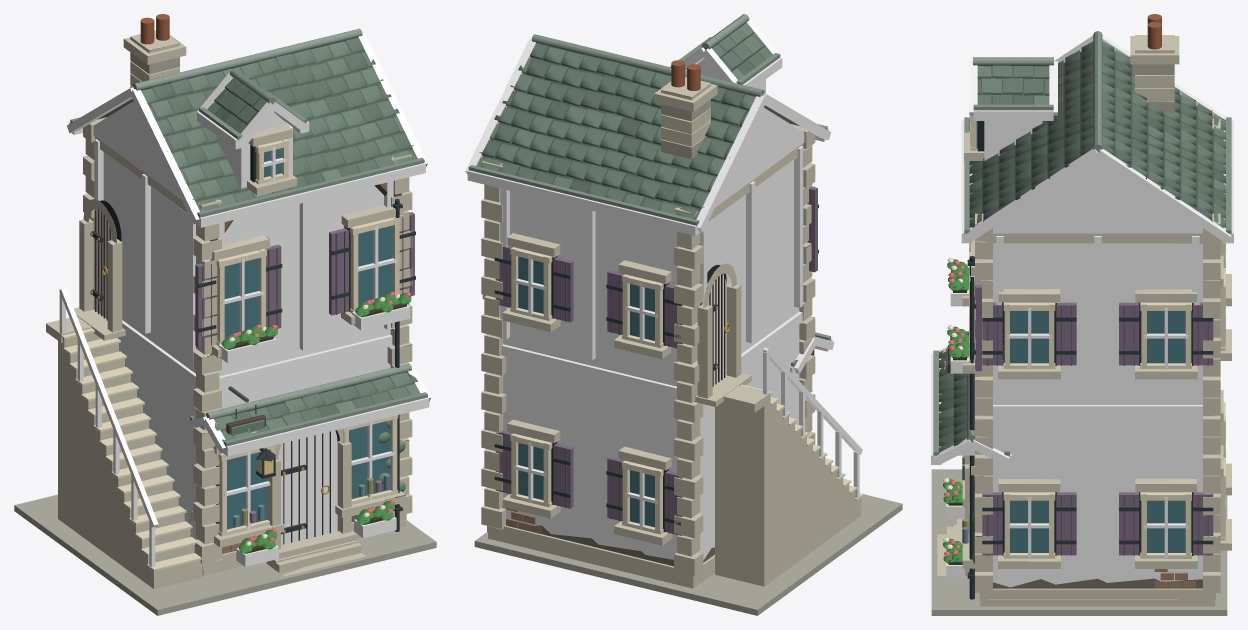
File: apothecary.glb
The picture shows the model from 3 angles, left to right: view 1: azimuth 30°, elevation 25°; view 2: azimuth 150°, elevation 25°; view 3: azimuth 270°, elevation 25°; orthographic projection. The views are drawn at different scales.
Parts seen in each view (by area): view 1: SourceMesh_00005, SourceMesh_00097, SourceMesh_00000, SourceMesh_00173, SourceMesh_00136, SourceMesh_00088, SourceMesh_00084, SourceMesh_00091, SourceMesh_00089, SourceMesh_00128, SourceMesh_00626, SourceMesh_00263 (+61 smaller); view 2: SourceMesh_00005, SourceMesh_00097, SourceMesh_00617, SourceMesh_00000, SourceMesh_00085, SourceMesh_00091, SourceMesh_00084, SourceMesh_00086, SourceMesh_00006, SourceMesh_00092, SourceMesh_00166, SourceMesh_00001 (+51 smaller); view 3: SourceMesh_00005, SourceMesh_00097, SourceMesh_00094, SourceMesh_00000, SourceMesh_00166, SourceMesh_00006, SourceMesh_00085, SourceMesh_00084, SourceMesh_00136, SourceMesh_00007, SourceMesh_00088, SourceMesh_00096 (+50 smaller).
Boxes of the visible parts, box(x1,y1,x2,y2) form: SourceMesh_00005: box(103, 152, 400, 539); SourceMesh_00097: box(141, 37, 416, 211); SourceMesh_00000: box(14, 494, 436, 615); SourceMesh_00173: box(278, 430, 337, 544); SourceMesh_00136: box(194, 372, 420, 442); SourceMesh_00088: box(148, 41, 413, 202); SourceMesh_00084: box(122, 320, 393, 391); SourceMesh_00091: box(93, 101, 181, 199); SourceMesh_00089: box(196, 163, 425, 227); SourceMesh_00128: box(223, 397, 429, 456); SourceMesh_00626: box(59, 288, 158, 527); SourceMesh_00263: box(358, 225, 392, 306); SourceMesh_00005: box(493, 160, 801, 560); SourceMesh_00097: box(476, 43, 755, 219); SourceMesh_00617: box(715, 396, 770, 586); SourceMesh_00000: box(474, 494, 902, 615); SourceMesh_00085: box(480, 46, 748, 211); SourceMesh_00091: box(715, 108, 804, 207); SourceMesh_00084: box(500, 311, 808, 398); SourceMesh_00086: box(467, 170, 700, 235); SourceMesh_00006: box(487, 525, 714, 582); SourceMesh_00092: box(696, 95, 766, 232); SourceMesh_00166: box(712, 23, 772, 79); SourceMesh_00001: box(488, 532, 714, 588); SourceMesh_00005: box(984, 243, 1211, 587); SourceMesh_00097: box(969, 41, 1225, 229); SourceMesh_00094: box(993, 159, 1202, 233); SourceMesh_00000: box(931, 469, 1227, 615); SourceMesh_00166: box(977, 65, 1049, 104); SourceMesh_00006: box(979, 588, 1215, 599); SourceMesh_00085: box(1102, 51, 1223, 227); SourceMesh_00084: box(980, 405, 1214, 416); SourceMesh_00136: box(939, 350, 966, 452); SourceMesh_00007: box(980, 233, 1202, 244); SourceMesh_00088: box(972, 51, 1093, 227); SourceMesh_00096: box(964, 149, 1099, 243).
Size of the model in its own units: 5.55 by 9.11 by 4.92.
